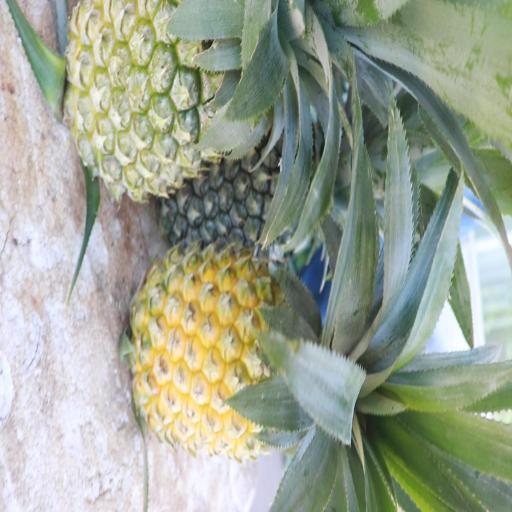------------------------------: (67, 0, 289, 185)
Pineapple - v8 v1: (135, 247, 363, 453)
